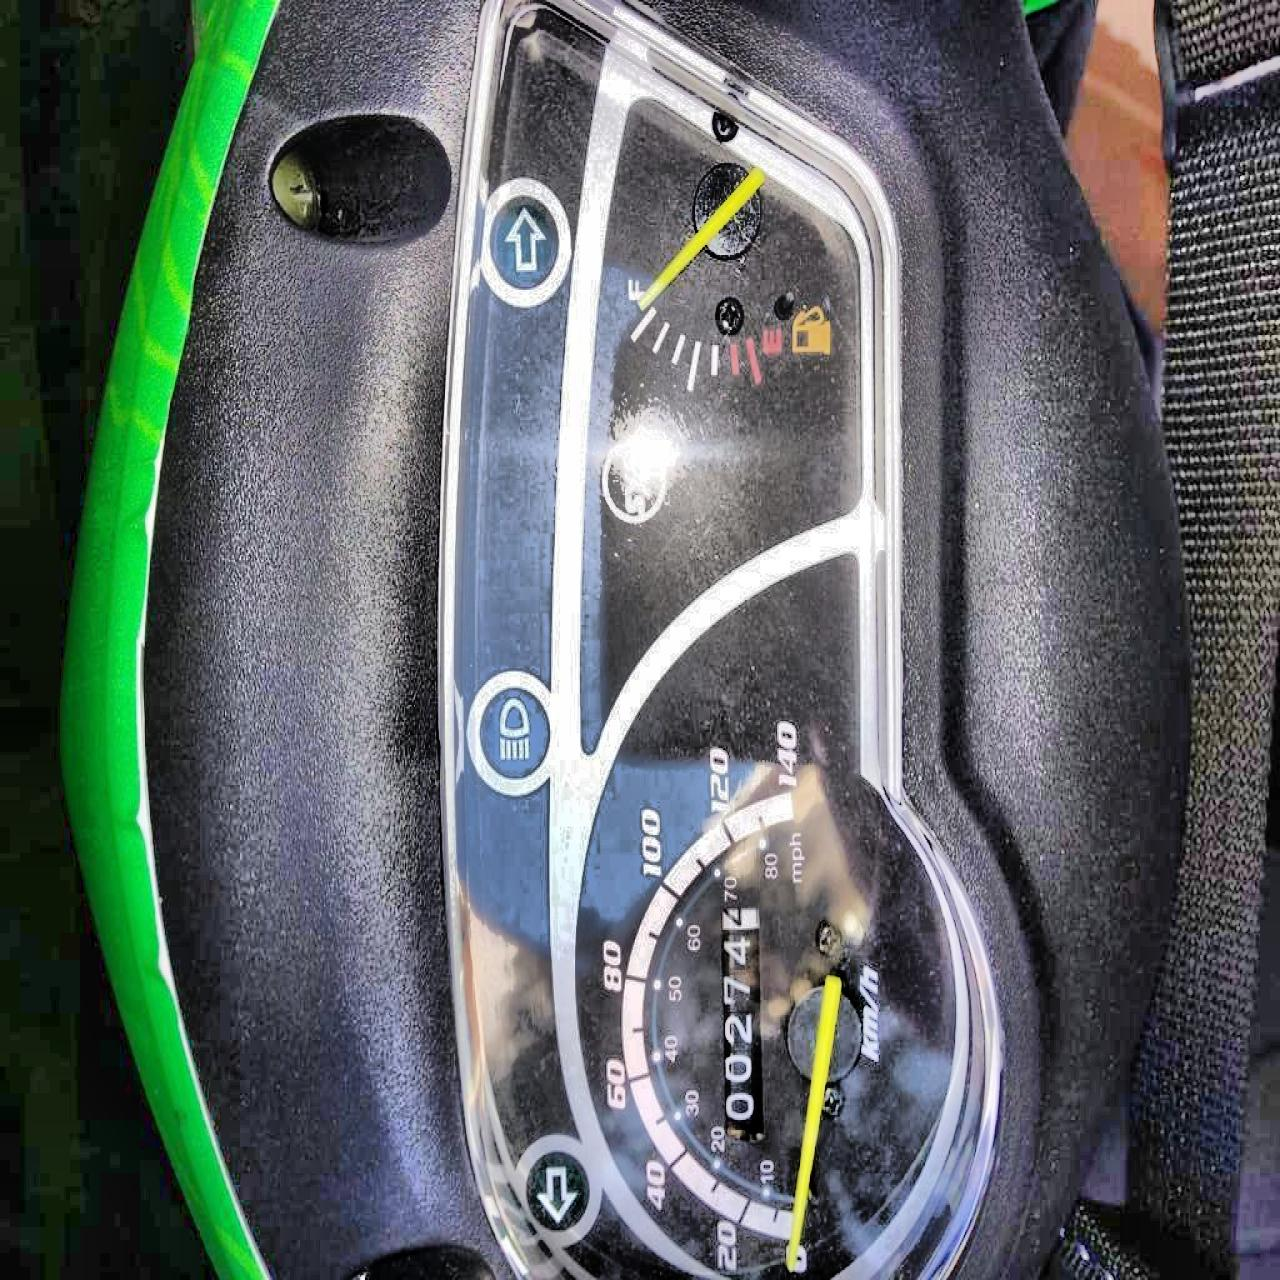0: (723, 1091, 753, 1121), (723, 1054, 751, 1082)
2: (723, 1014, 751, 1043)
4: (722, 934, 749, 964), (721, 904, 744, 925)
7: (722, 974, 749, 1003)
odometer: (719, 904, 763, 1130)
